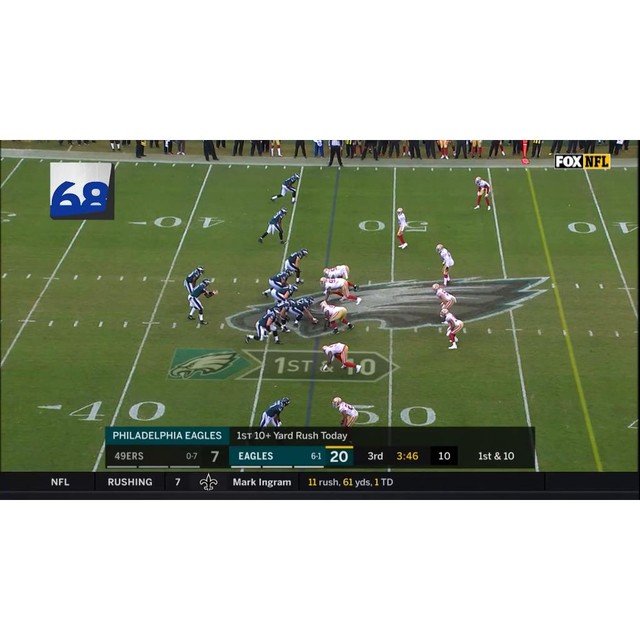american-football-player: (187, 277, 216, 327), (245, 308, 282, 345), (320, 342, 360, 373), (319, 301, 354, 334), (319, 278, 361, 305), (440, 305, 464, 350), (258, 208, 288, 244), (259, 396, 291, 428), (332, 396, 358, 435), (322, 264, 359, 290), (287, 296, 317, 328), (283, 248, 309, 284), (271, 172, 300, 204), (261, 269, 292, 298), (436, 243, 454, 285), (184, 265, 205, 300), (432, 282, 456, 312), (271, 282, 300, 304), (473, 175, 491, 210), (396, 206, 408, 249)
referee: (328, 141, 344, 166)
